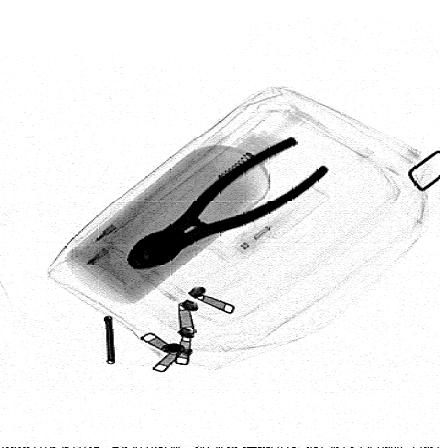Pliers: (125, 136, 331, 271)
